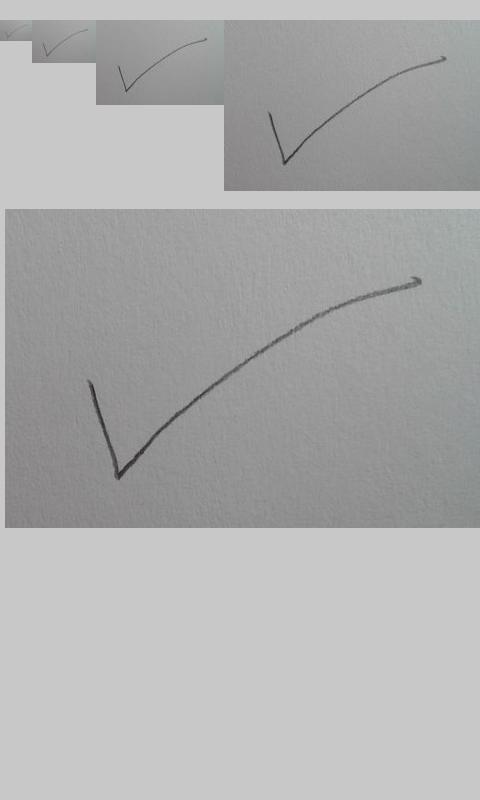check_box: (89, 278, 426, 480), (267, 56, 446, 165), (118, 37, 207, 93), (42, 29, 88, 57), (5, 24, 28, 39)
